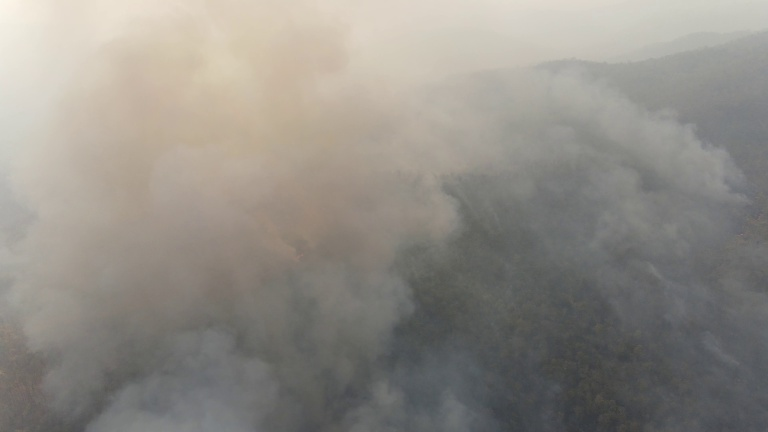smoke: (11, 1, 444, 397), (484, 66, 750, 277)
